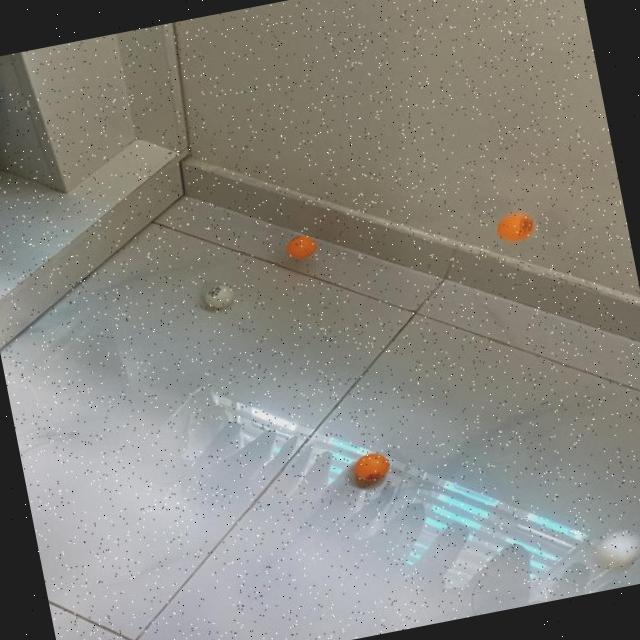ping-pong-ball: (494, 207, 538, 246), (352, 450, 393, 486), (202, 280, 238, 311), (284, 232, 320, 261)
